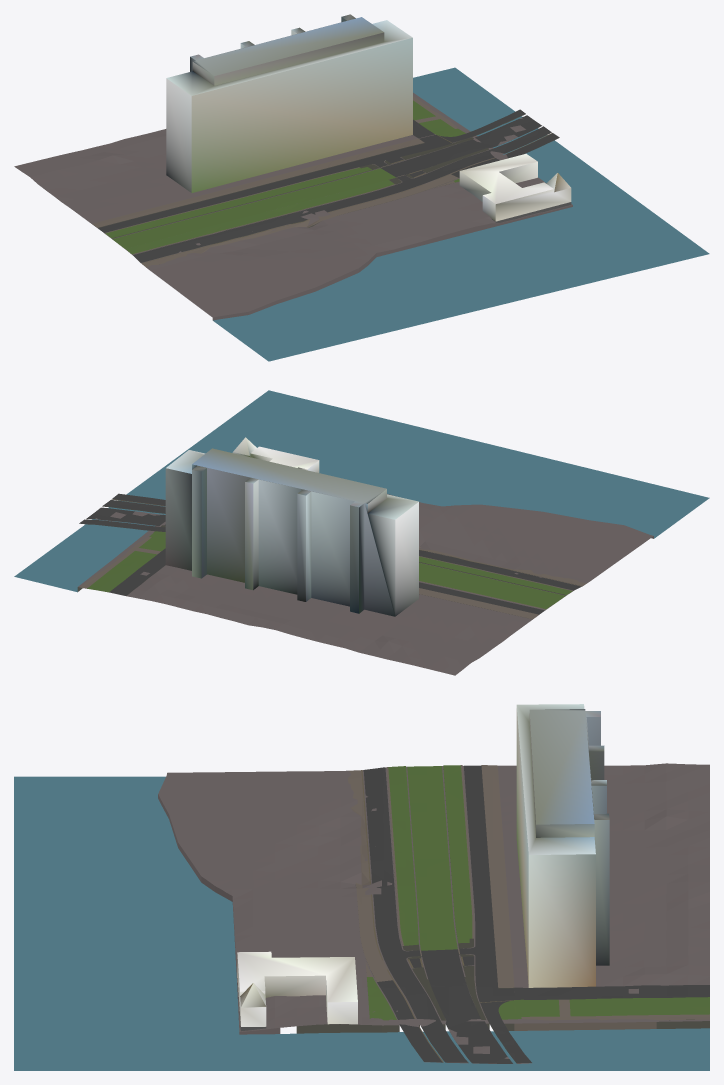
The picture shows the model from 3 angles, top to bottom: view 1: azimuth 30°, elevation 25°; view 2: azimuth 150°, elevation 25°; view 3: azimuth 270°, elevation 25°; orthographic projection. The views are drawn at different scales.
Parts seen in each view (by area): view 1: c_p04_m08, append:c_p04_m08; view 2: c_p04_m08, append:c_p04_m08; view 3: c_p04_m08, append:c_p04_m08.
Part boxes in pixels (x1,y1,x2,y2): c_p04_m08: [166, 14, 709, 361]; append:c_p04_m08: [14, 67, 601, 286]; c_p04_m08: [161, 390, 709, 616]; append:c_p04_m08: [14, 469, 611, 675]; c_p04_m08: [14, 704, 609, 1070]; append:c_p04_m08: [280, 763, 709, 1070].
Size of the model in its own units: 128 by 31.76 by 128.
